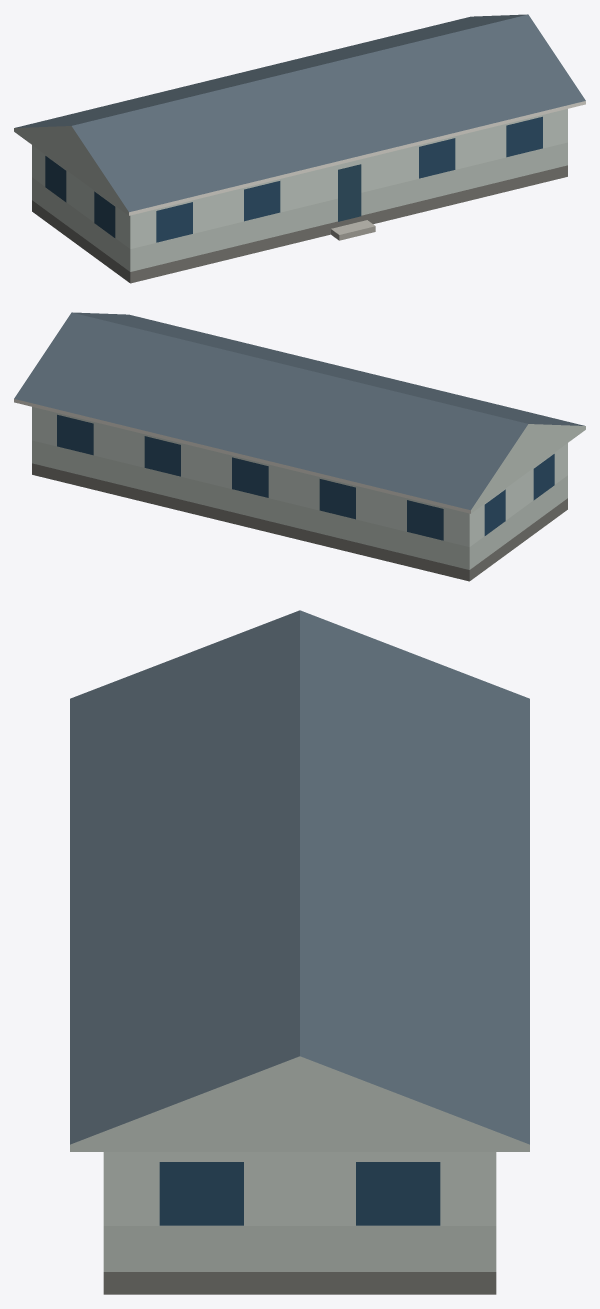
Rendered from house_18x7_lod1.glb.
3 renders of one model, top to bottom at view 1: azimuth 30°, elevation 25°; view 2: azimuth 150°, elevation 25°; view 3: azimuth 270°, elevation 25°, orthographic. The views are drawn at different scales.
Visible parts, largest first — view 1: house; view 2: house; view 3: house.
Part boxes in pixels (box(x1,y1,x2,y2)): house: box(14, 14, 585, 283); house: box(14, 312, 585, 581); house: box(70, 610, 529, 1294).
Bounding box in the file's own units: 18.8 × 4.88 × 8.2.
